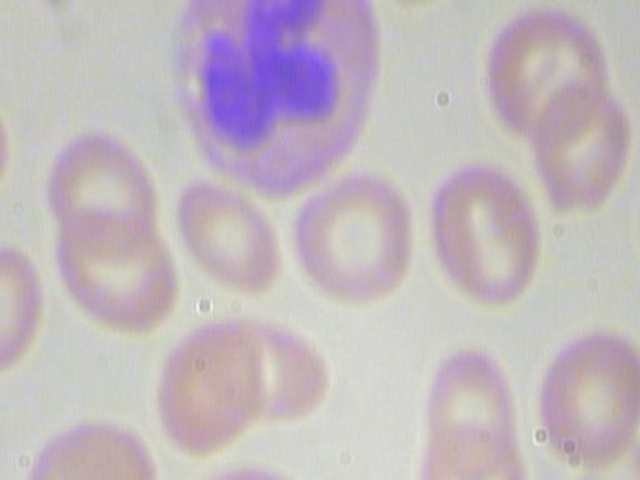RBC: (473, 0, 612, 155), (418, 155, 552, 313), (40, 120, 171, 271), (146, 308, 276, 458), (293, 173, 420, 317), (401, 341, 532, 480), (50, 207, 184, 339), (535, 313, 640, 473), (200, 304, 333, 424), (524, 72, 633, 213), (171, 174, 286, 302), (0, 235, 51, 383), (362, 0, 469, 10)
WBC: (158, 0, 389, 199)
